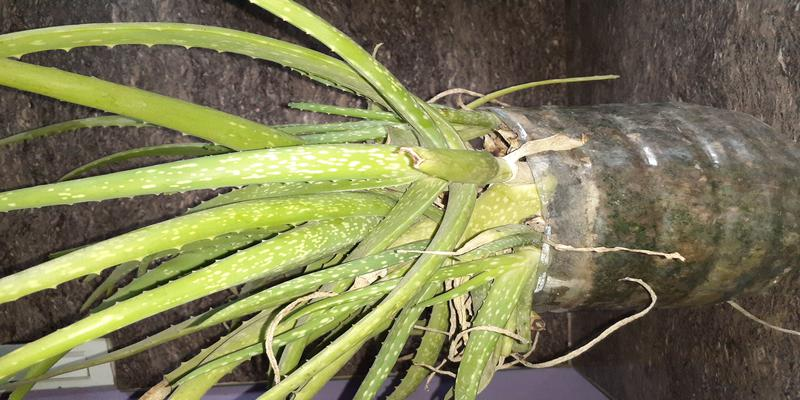Aloevera: (43, 22, 538, 374)
